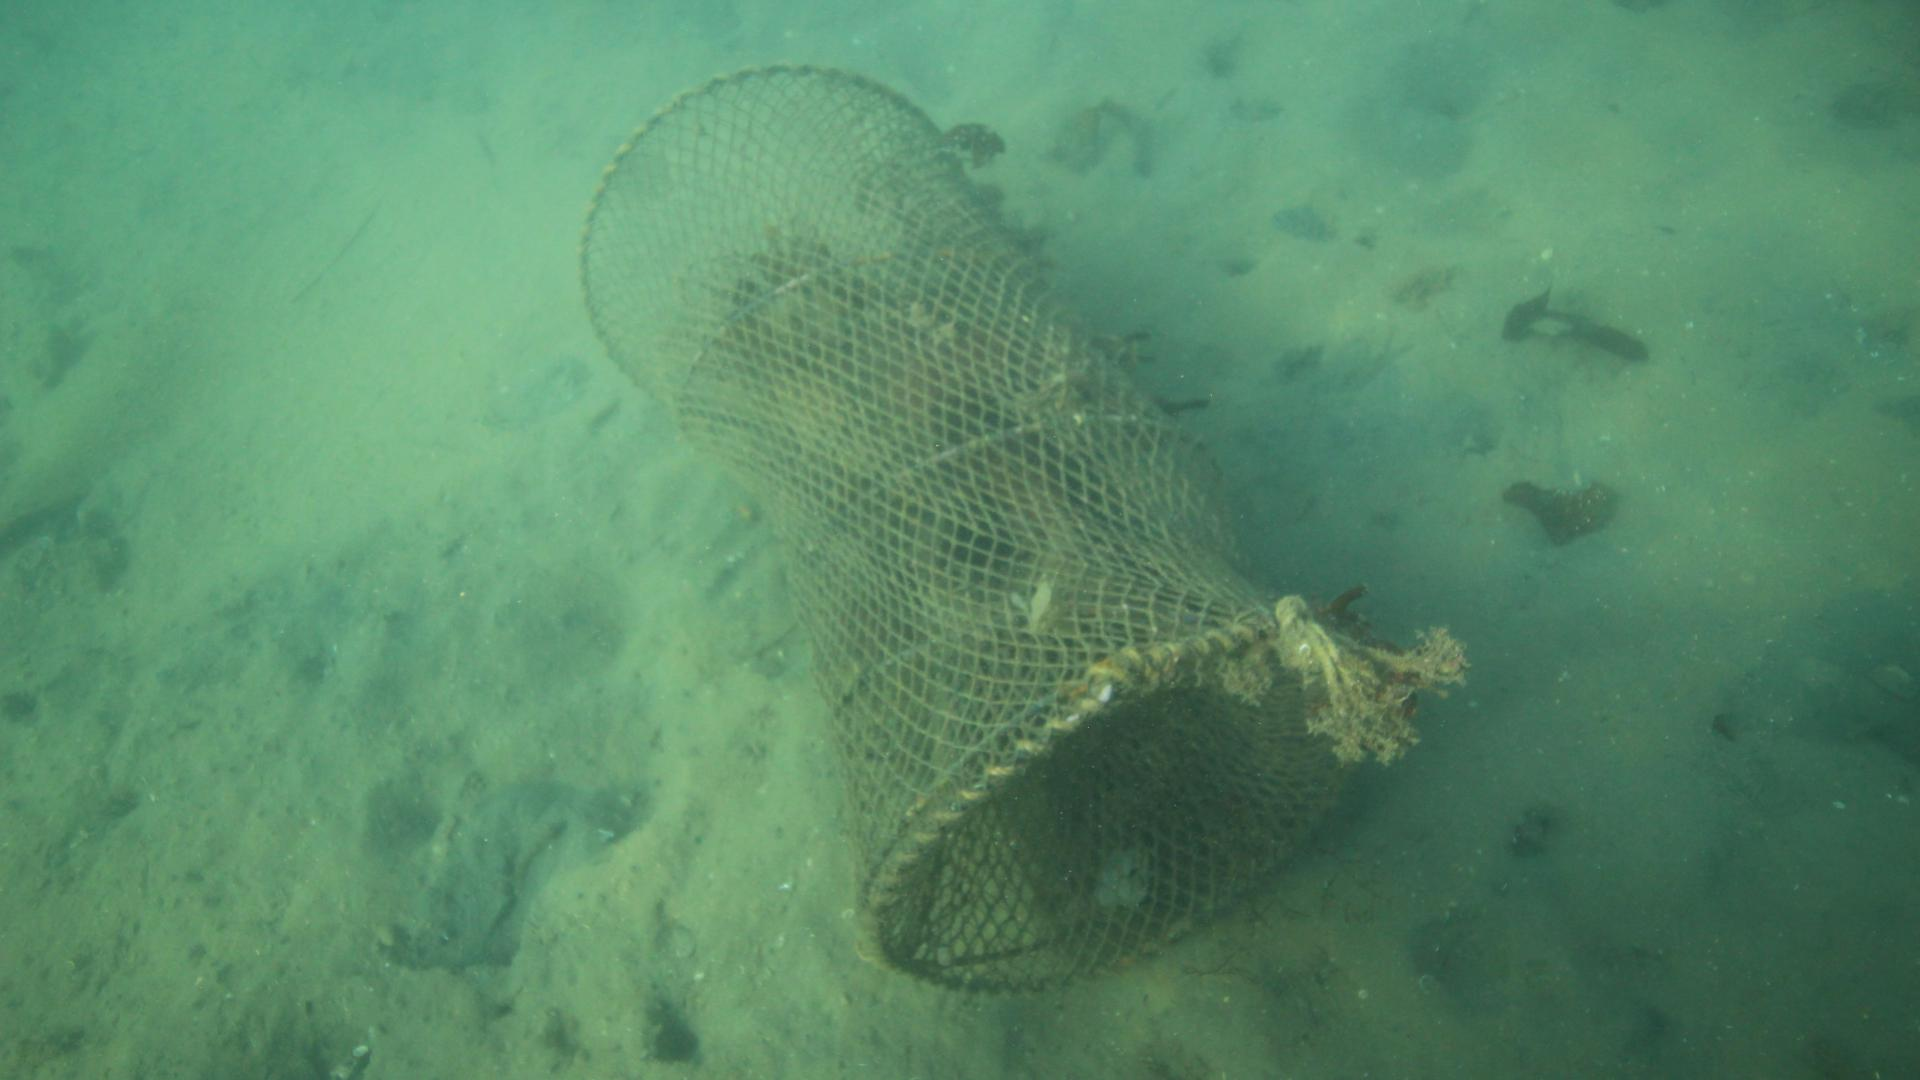spring fish trap: (575, 63, 1352, 997)
